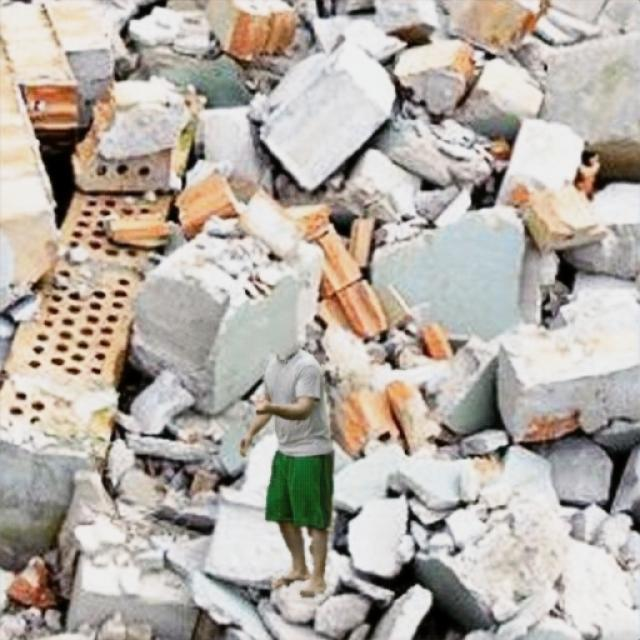Person in Rubble: (240, 348, 332, 596)
